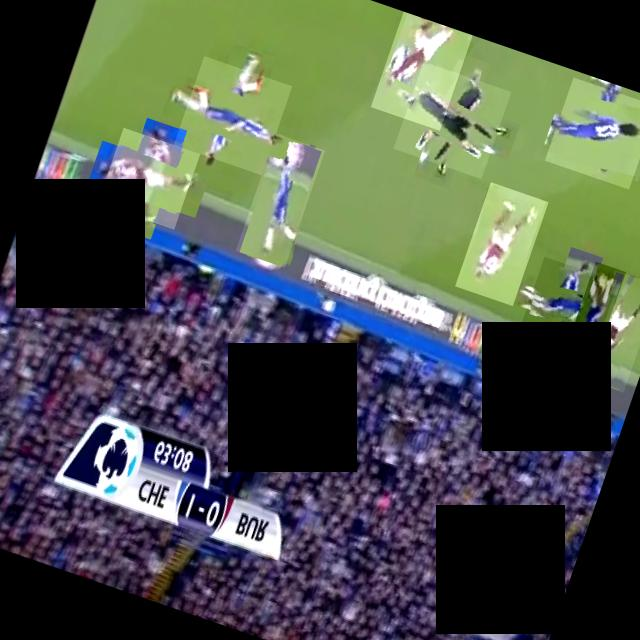referee: (392, 60, 510, 177)
soccer-player: (172, 54, 291, 174), (369, 10, 472, 129), (235, 132, 325, 266), (454, 180, 547, 304), (543, 76, 640, 188), (96, 126, 199, 228), (518, 255, 617, 354), (558, 260, 625, 376), (577, 269, 640, 391)
